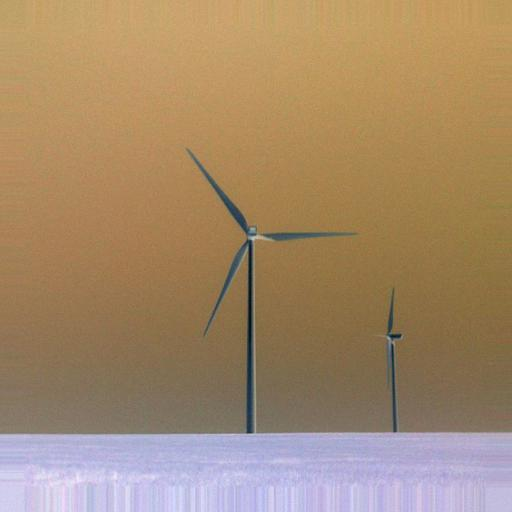wind turbine: (184, 147, 363, 432), (370, 288, 408, 431)
